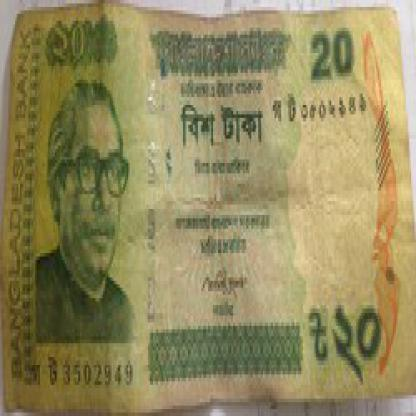Twenty: (310, 294, 390, 392), (176, 90, 270, 153), (45, 21, 128, 69), (301, 28, 361, 83)
